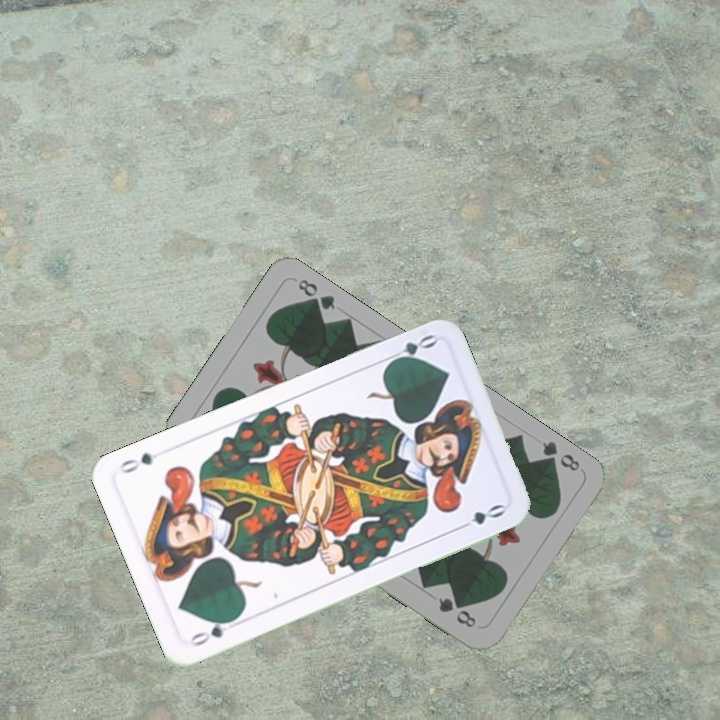G8: (536, 437, 583, 474)
GO: (381, 330, 439, 368), (186, 613, 240, 649)
